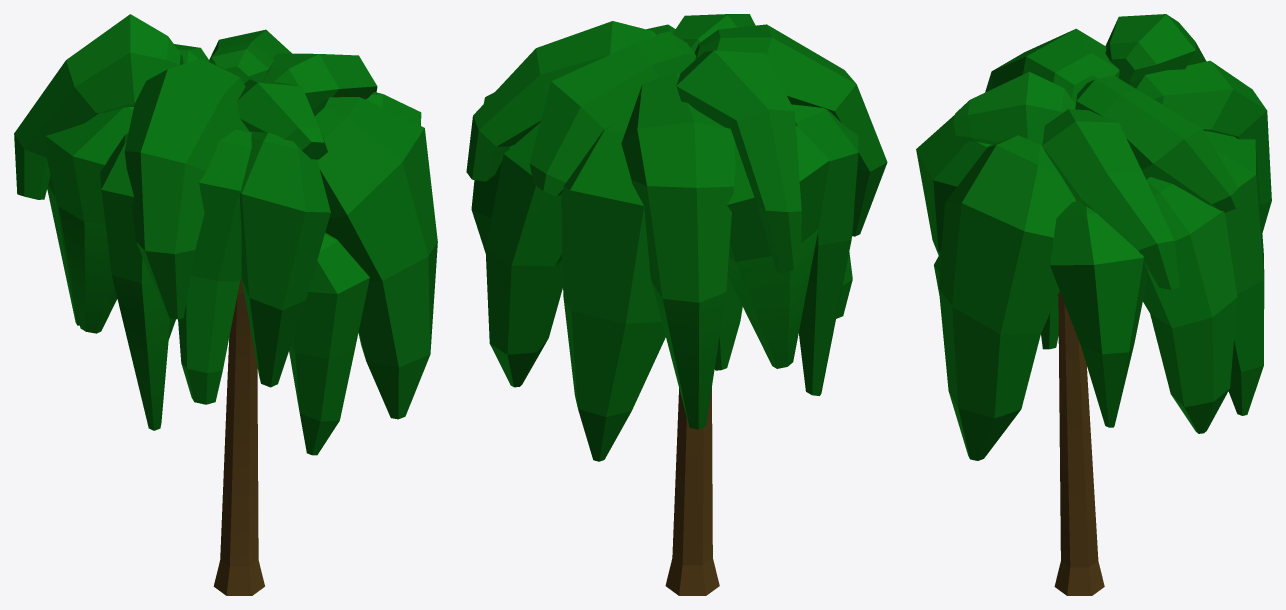
File: Tree-06.fbx
3 renders of one model, left to right at view 1: azimuth 30°, elevation 25°; view 2: azimuth 150°, elevation 25°; view 3: azimuth 270°, elevation 25°, orthographic. The views are drawn at different scales.
Visible parts, largest first — view 1: Tree-06; view 2: Tree-06; view 3: Tree-06.
Part boxes in pixels (<box>): Tree-06: <box>14,14,437,595</box>; Tree-06: <box>466,14,887,595</box>; Tree-06: <box>916,14,1271,595</box>.
Size of what is drawn, in the model's own units: 3.98 by 6.06 by 3.61.
